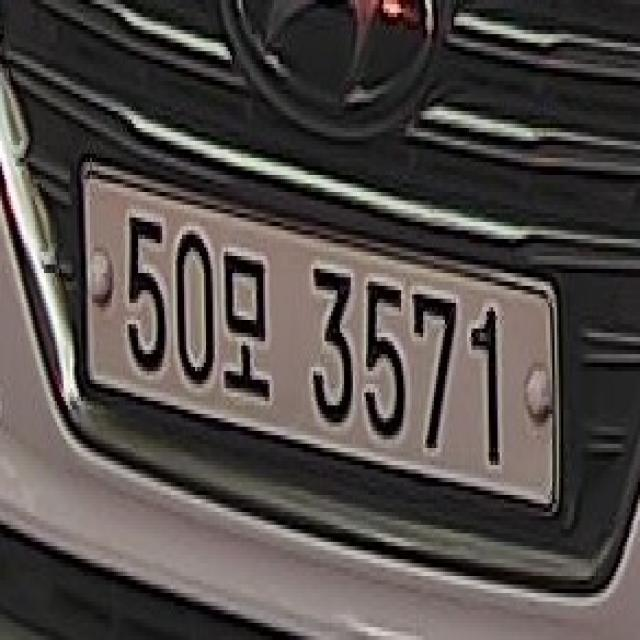0: (171, 218, 216, 392)
1: (472, 300, 504, 478)
3: (300, 261, 354, 433)
5: (359, 274, 407, 452), (120, 212, 168, 382)
7: (410, 288, 458, 460)
license_plate: (80, 161, 565, 528)
mo: (218, 243, 276, 408)
